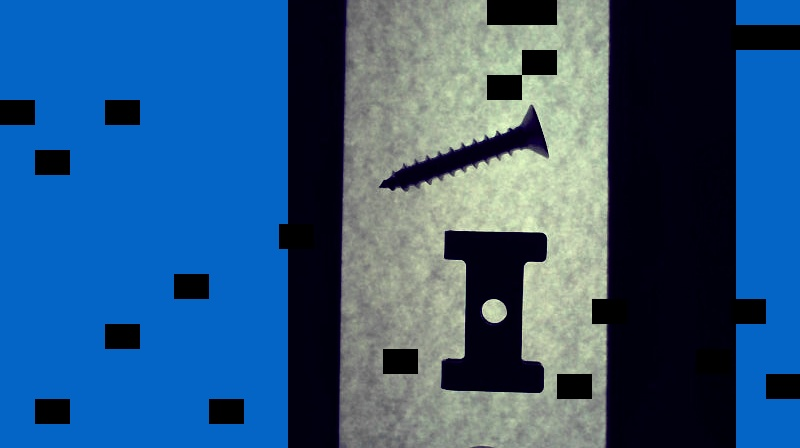O001: (445, 439, 536, 447)
O002: (436, 224, 553, 395)
S001: (373, 102, 552, 194)
